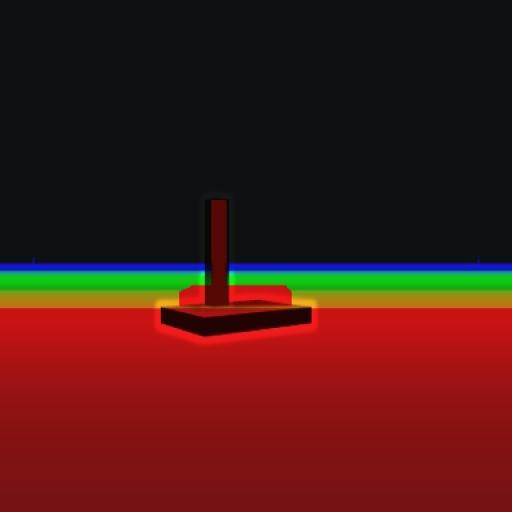platform: (158, 197, 313, 342)
